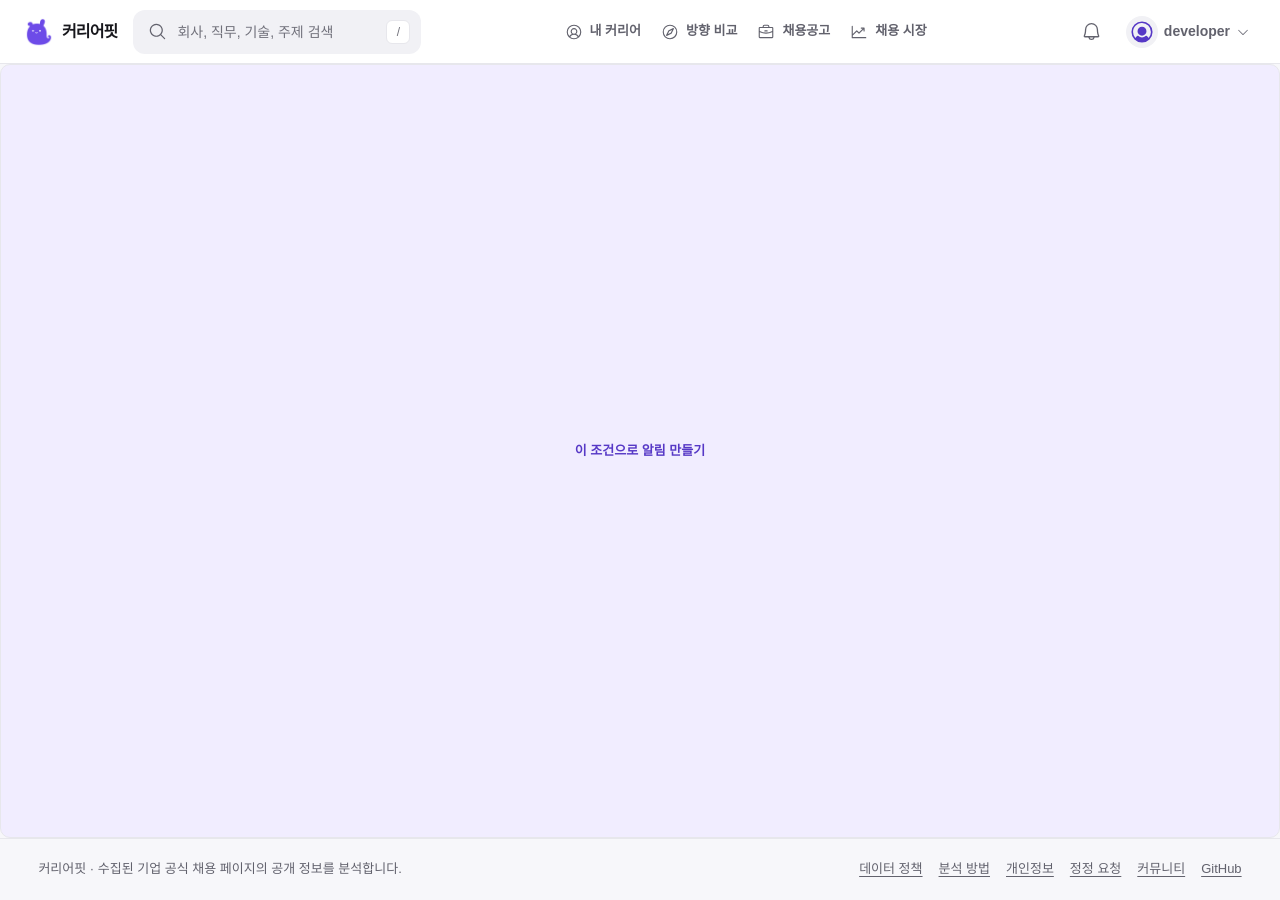
Test: AppShell › shares its auth viewer with a saved-search composer
The width and height of the screenshot is (1280, 900).
Click the button with aria-label "사용자 메뉴 열기" at (1188, 32), box [1120,10,1256,54]
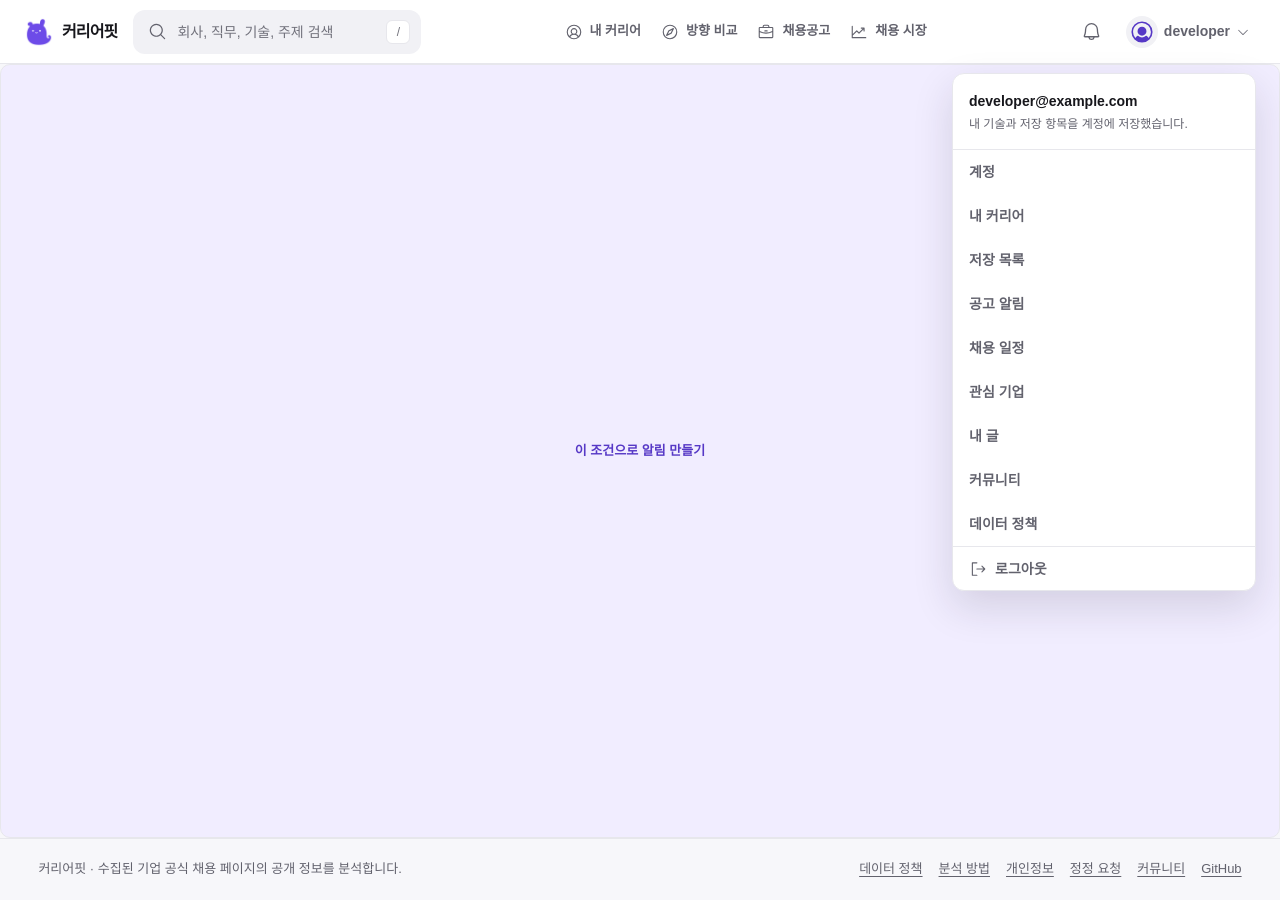
Expected: the text "내 기술과 저장 항목을 계정에 저장했습니다." is shown, [969,117,1188,131]
